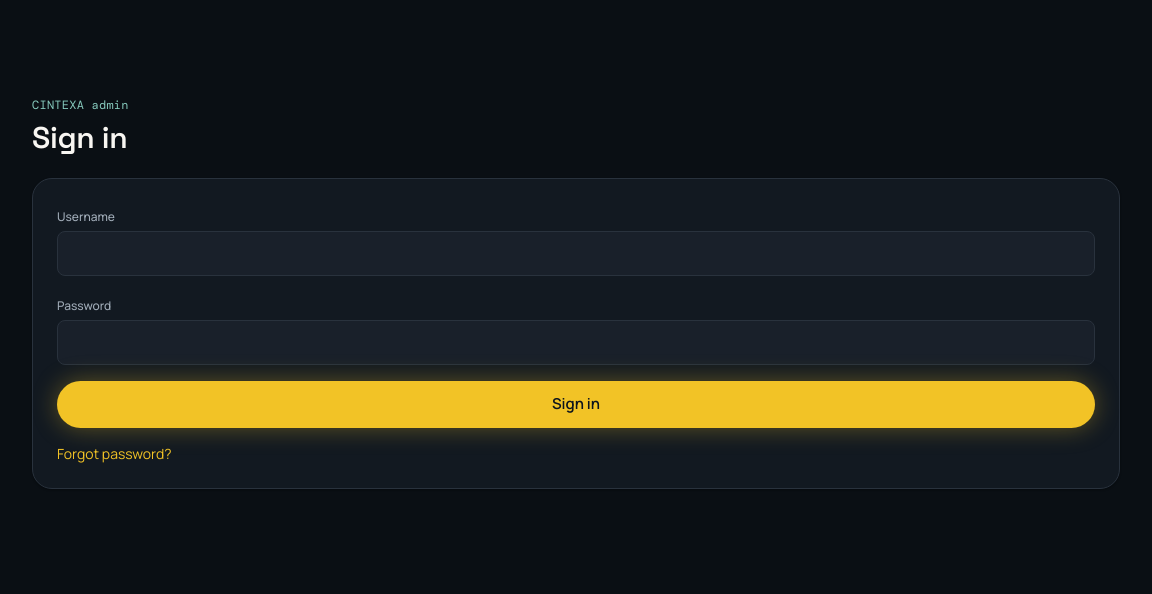
Test: signing in › signs in with username and password, and keeps the token in sessionStorage only
The width and height of the screenshot is (1152, 594).
Type "kyle.admin" into the field labelled "Username" at [576, 253], box [57,230,1095,276]
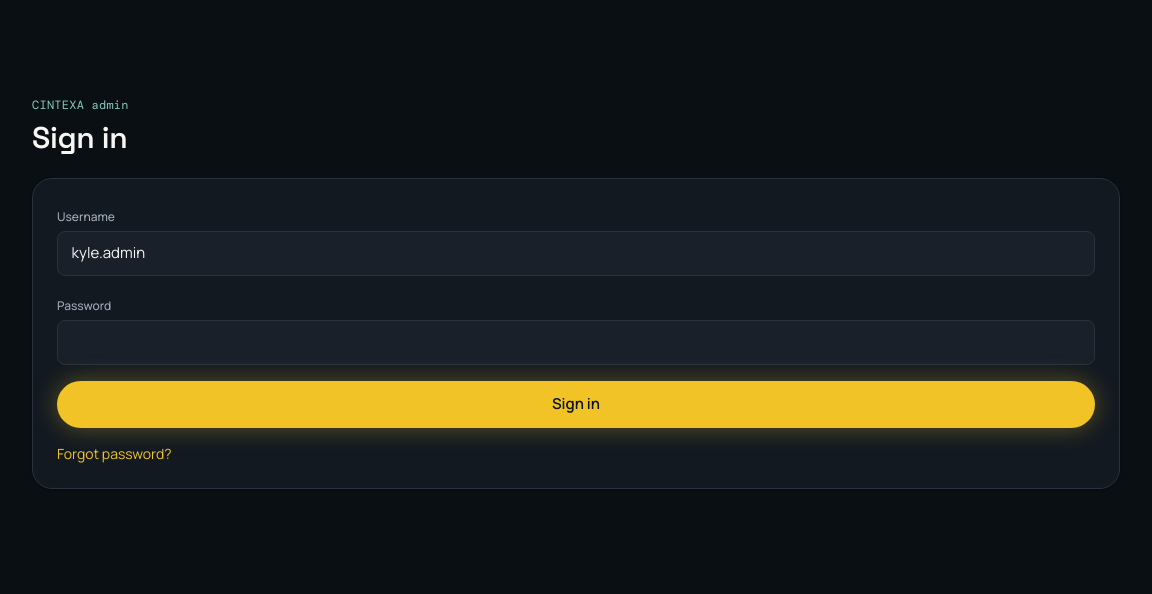
Type "Adm1n!Strong-Pass-99" into the password field labelled "Password" at [576, 342], box [57,320,1095,365]
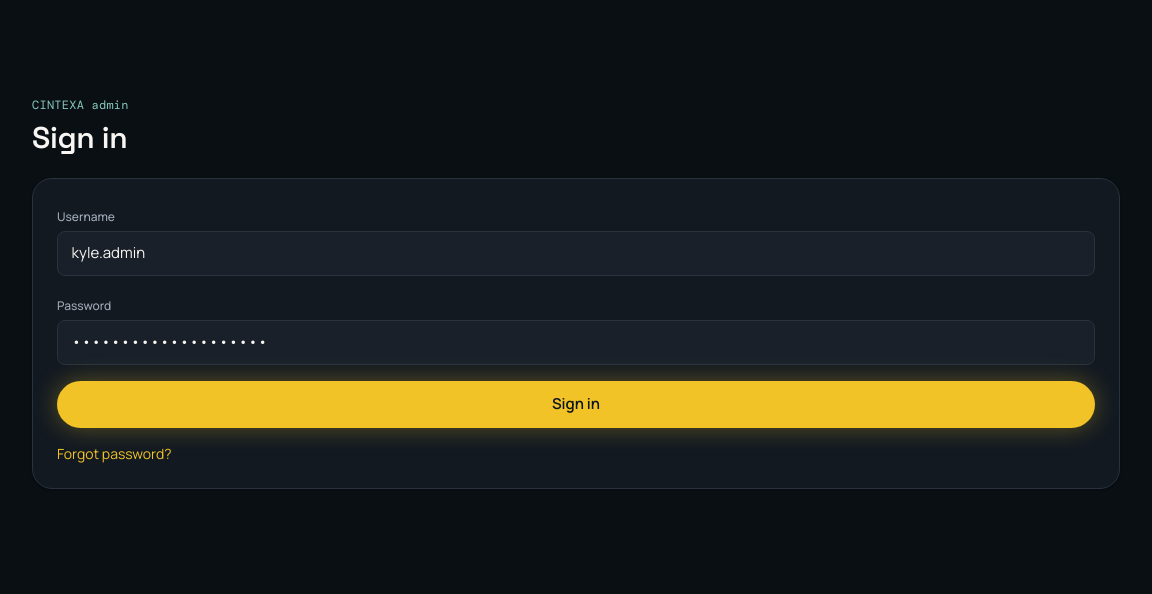
Click the button "Sign in" at [576, 405], box [57,381,1095,428]
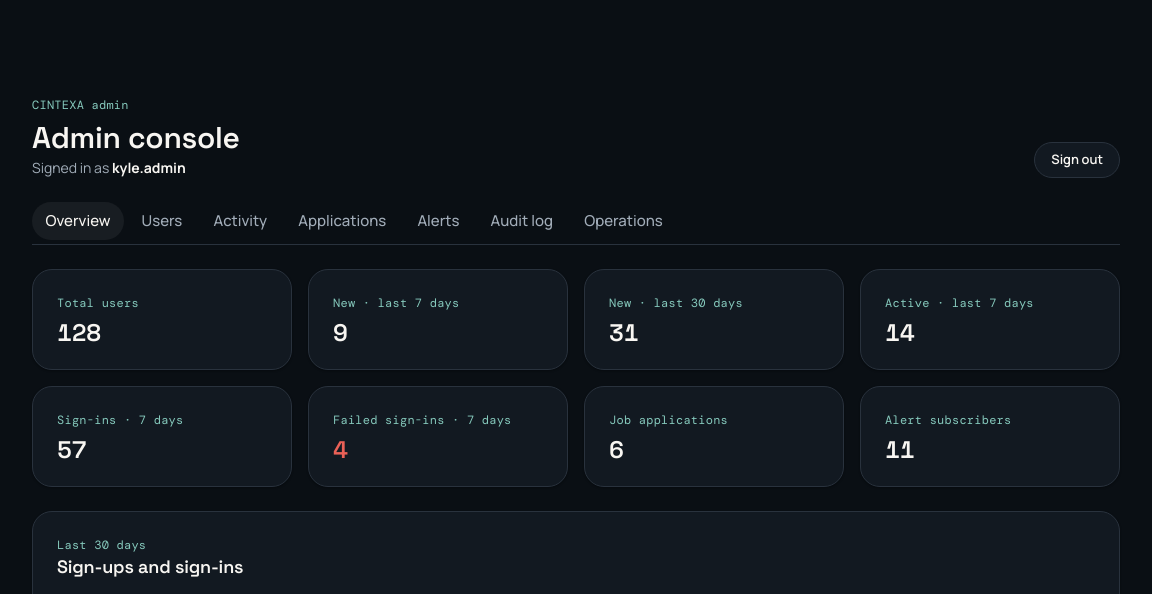
Expected: the heading "Admin console" is shown, [32,122,240,154]
Expected: the text "kyle.admin" is shown, [112,158,186,176]
Expected: the text labelled "Password" is gone
